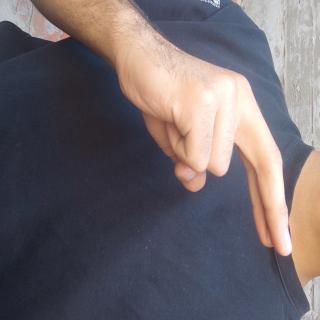ZAY: (5, 33, 196, 304)
